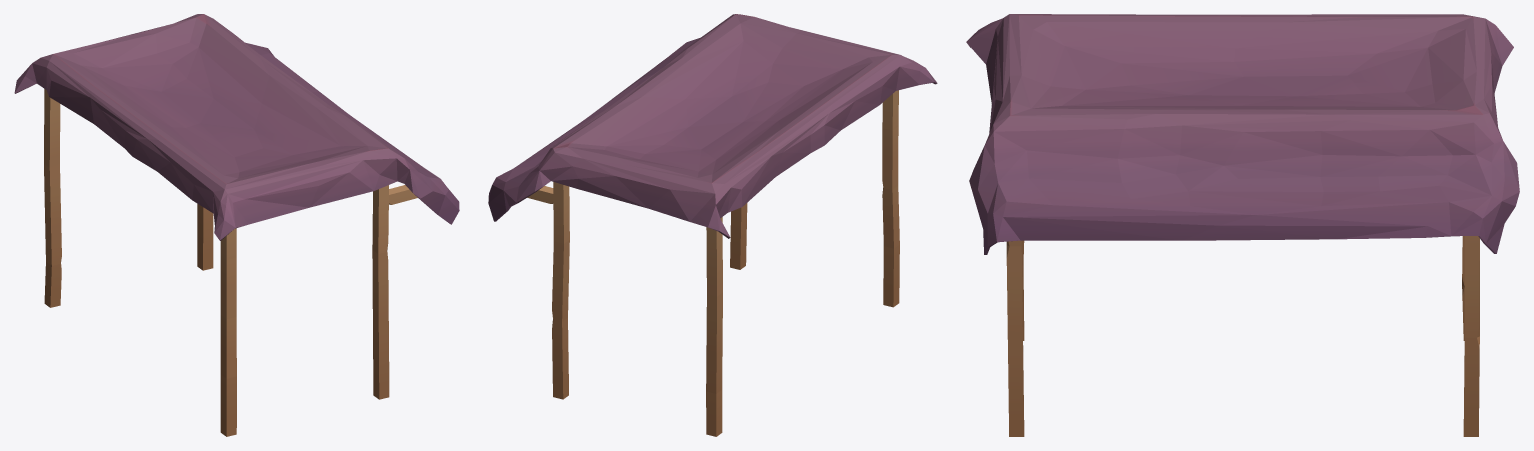
File: SM_MarketStall_01.glb
3 renders of one model, left to right at view 1: azimuth 30°, elevation 25°; view 2: azimuth 150°, elevation 25°; view 3: azimuth 270°, elevation 25°, orthographic. The views are drawn at different scales.
Parts seen in each view (by area): view 1: SM_MarketStall_01; view 2: SM_MarketStall_01; view 3: SM_MarketStall_01.
Part boxes in pixels (left/top/right/bottom): SM_MarketStall_01: left=14, top=14, right=459, bottom=436; SM_MarketStall_01: left=488, top=14, right=937, bottom=436; SM_MarketStall_01: left=966, top=14, right=1519, bottom=436.
Bounding box in the file's own units: 2.72 × 2.59 × 4.02.
2 materials, 2 textured.
